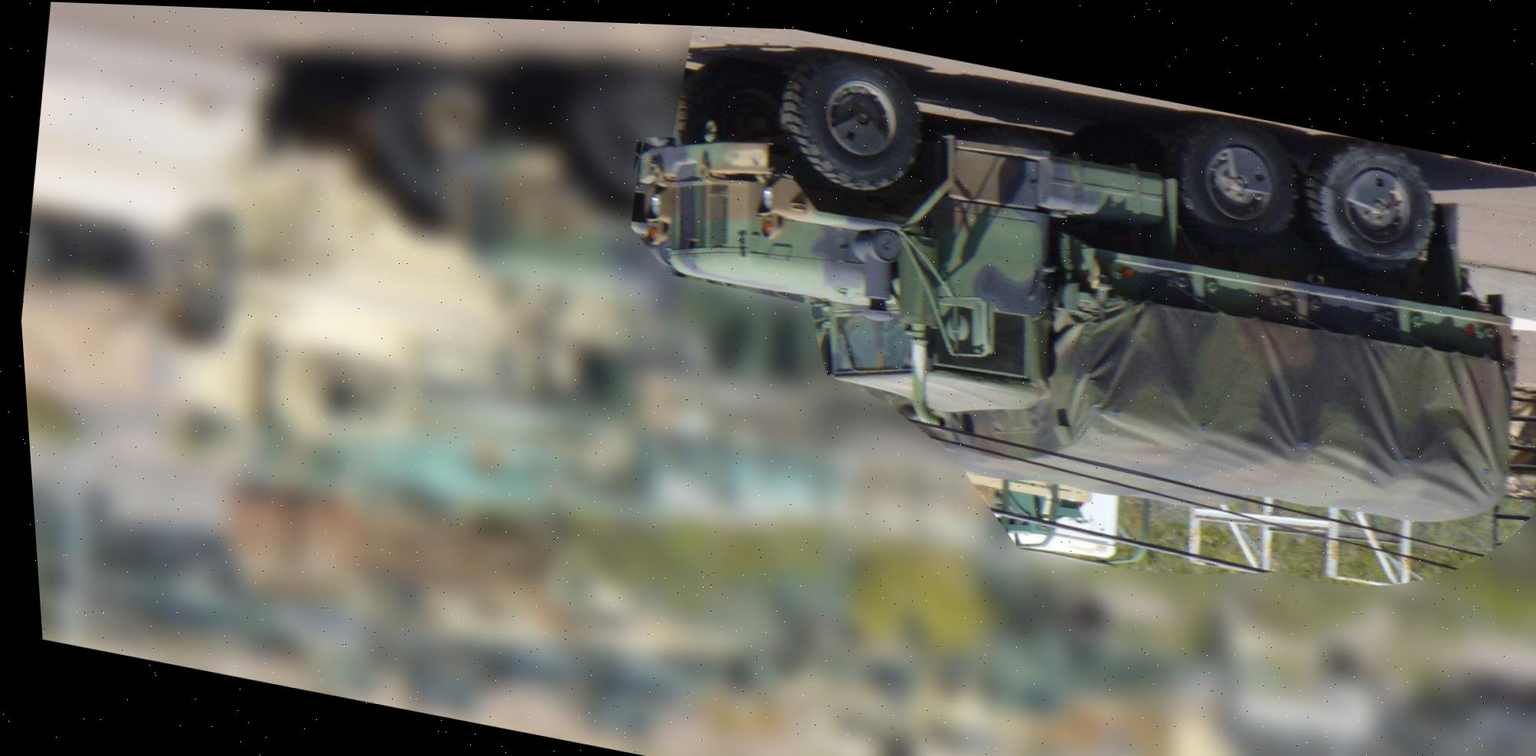truck: (579, 21, 1536, 566)
